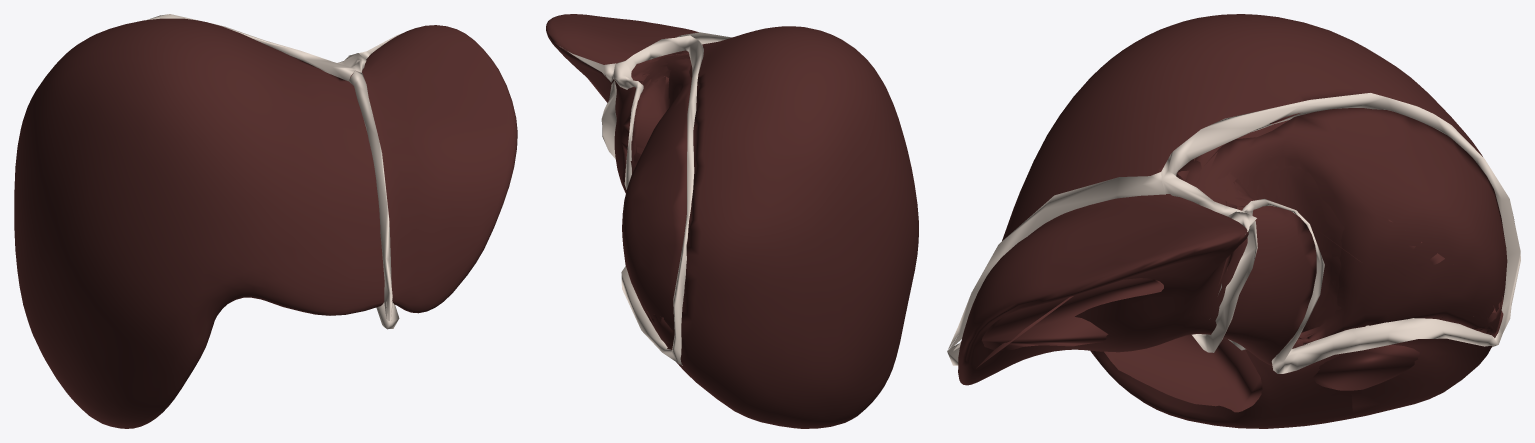
File: vh_m_liver-40.glb
3 renders of one model, left to right at view 1: azimuth 30°, elevation 25°; view 2: azimuth 150°, elevation 25°; view 3: azimuth 270°, elevation 25°, orthographic. The views are drawn at different scales.
Parts seen in each view (by area): view 1: VH_M_liver_capsule, VH_M_falciform_ligament, VH_M_coronary_ligament_of_liver; view 2: VH_M_liver_capsule, VH_M_bare_area_of_liver, VH_M_coronary_ligament_of_liver, VH_M_caudate_lobe_of_liver, VH_M_ligamentum_venosum, VH_M_diaphragmatic_surface, VH_M_right_posteroinferior_segment, VH_M_triangular_ligament_of_liver; view 3: VH_M_liver_capsule, VH_M_bare_area_of_liver, VH_M_coronary_ligament_of_liver, VH_M_colic_impression_of_liver, VH_M_gastric_impression_of_liver, VH_M_caudate_lobe_of_liver, VH_M_falciform_ligament, VH_M_diaphragmatic_surface, VH_M_renal_impression_of_liver, VH_M_ligamentum_venosum.
Part boxes in pixels (bbox=[...]): VH_M_liver_capsule: bbox=[14, 18, 517, 428]; VH_M_falciform_ligament: bbox=[349, 71, 392, 320]; VH_M_coronary_ligament_of_liver: bbox=[146, 14, 366, 81]; VH_M_liver_capsule: bbox=[546, 14, 918, 428]; VH_M_bare_area_of_liver: bbox=[622, 50, 691, 347]; VH_M_coronary_ligament_of_liver: bbox=[613, 35, 703, 365]; VH_M_caudate_lobe_of_liver: bbox=[615, 53, 692, 152]; VH_M_ligamentum_venosum: bbox=[601, 80, 616, 158]; VH_M_diaphragmatic_surface: bbox=[632, 74, 677, 324]; VH_M_right_posteroinferior_segment: bbox=[646, 311, 674, 346]; VH_M_triangular_ligament_of_liver: bbox=[566, 50, 616, 82]; VH_M_liver_capsule: bbox=[958, 14, 1503, 428]; VH_M_bare_area_of_liver: bbox=[1176, 108, 1507, 347]; VH_M_coronary_ligament_of_liver: bbox=[1161, 93, 1520, 373]; VH_M_colic_impression_of_liver: bbox=[1104, 335, 1262, 412]; VH_M_gastric_impression_of_liver: bbox=[981, 278, 1163, 350]; VH_M_caudate_lobe_of_liver: bbox=[1194, 120, 1344, 348]; VH_M_falciform_ligament: bbox=[947, 172, 1165, 351]; VH_M_diaphragmatic_surface: bbox=[976, 156, 1496, 368]; VH_M_renal_impression_of_liver: bbox=[1313, 345, 1419, 390]; VH_M_ligamentum_venosum: bbox=[1192, 221, 1257, 352].
Bounding box in the file's own units: 0.1914 × 0.1746 × 0.2019.
